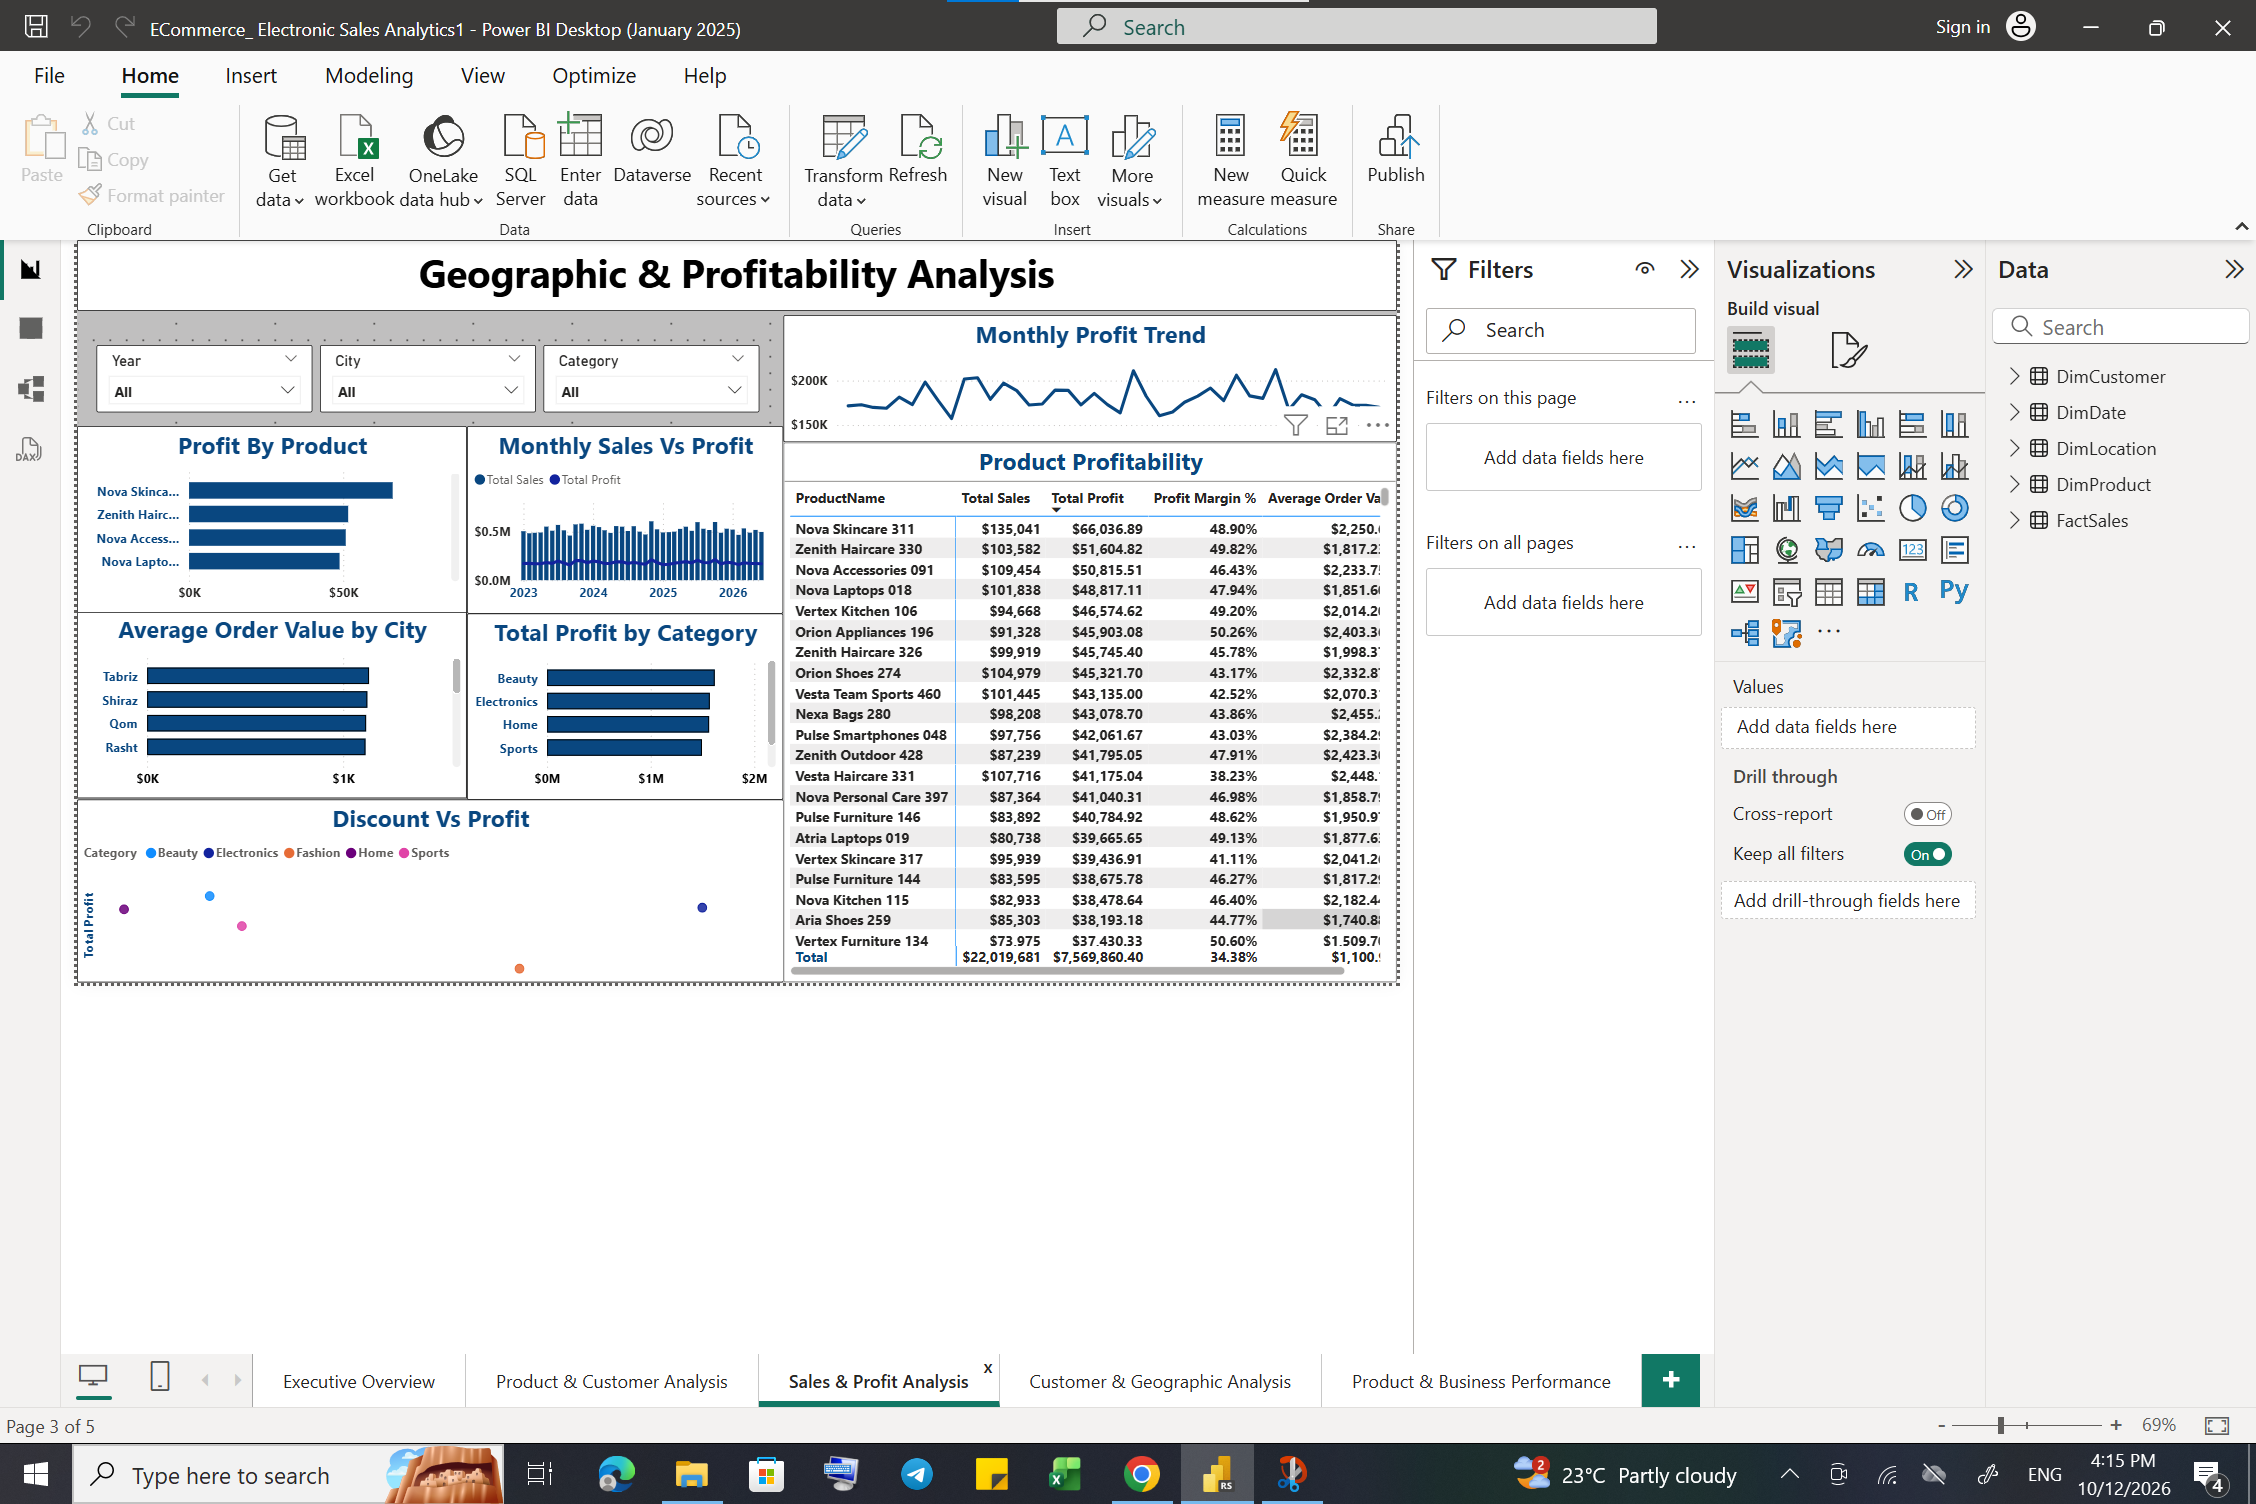

The page's visual inventory and layout, read from the dashboard file:
{"tool":"powerbi","page":{"name":"Sales & Profit Analysis","canvas":[1280,720],"ordinal":2},"visuals":[{"type":"textbox","box":[0,0,1280,68.4],"z":0},{"type":"slicer","fields":{"Values":["DimDate.Year"]},"box":[18.9,101.8,209.5,65.5],"z":1000},{"type":"slicer","fields":{"Values":["DimCustomer.City"]},"box":[235.6,101.8,209.5,65.5],"z":2000},{"type":"slicer","fields":{"Values":["DimProduct.Category"]},"box":[452.4,101.8,209.5,65.5],"z":3000},{"type":"lineClusteredColumnComboChart","title":"Monthly Sales Vs Profit","fields":{"Y":["FactSales.Total Sales"],"Category":["DimDate.YearMonth"],"Y2":["FactSales.Total Profit"]},"box":[378.2,180.4,306.9,181.8],"z":4000},{"type":"clusteredBarChart","title":"Profit By Product","fields":{"Category":["DimProduct.ProductName"],"Y":["FactSales.Total Profit"]},"box":[0,180.4,378.2,181.8],"z":5000},{"type":"lineChart","title":"Monthly Profit Trend","fields":{"Category":["DimDate.YearMonth"],"Y":["FactSales.Total Profit"]},"box":[685.1,72.7,594.9,123.6],"z":6000},{"type":"scatterChart","title":"Discount Vs Profit","fields":{"X":["FactSales.Average Discount"],"Y":["FactSales.Total Profit"],"Series":["DimProduct.Category"]},"box":[0,542.5,685.1,177.5],"z":7000},{"type":"clusteredBarChart","fields":{"Y":["FactSales.Total Profit"],"Category":["DimProduct.Category"]},"box":[378.2,362.2,306.9,180.4],"z":8000},{"type":"clusteredBarChart","fields":{"Category":["DimCustomer.City"],"Y":["FactSales.Average Order Value"]},"box":[0,360.7,378.2,180.4],"z":9000},{"type":"pivotTable","title":"Product Profitability","fields":{"Rows":["DimProduct.ProductName"],"Values":["FactSales.Total Sales","FactSales.Total Profit","FactSales.Profit Margin %","FactSales.Average Order Value"]},"box":[685.1,196.4,594.9,523.6],"z":10000}]}

Visuals, with their boxes on the page's 1280x720 design canvas (x1, y1, x2, y2). These are canvas units, not pixel positions in the 2256x1504 screenshot, which may show the page scaled, cropped or inside an application window:
textbox: 0:0:1280:68
slicer - DimDate.Year: 19:102:228:167
slicer - DimCustomer.City: 236:102:445:167
slicer - DimProduct.Category: 452:102:662:167
"Monthly Sales Vs Profit" lineClusteredColumnComboChart: 378:180:685:362
"Profit By Product" clusteredBarChart: 0:180:378:362
"Monthly Profit Trend" lineChart: 685:73:1280:196
"Discount Vs Profit" scatterChart: 0:542:685:720
clusteredBarChart - FactSales.Total Profit x DimProduct.Category: 378:362:685:543
clusteredBarChart - DimCustomer.City x FactSales.Average Order Value: 0:361:378:541
"Product Profitability" pivotTable: 685:196:1280:720
